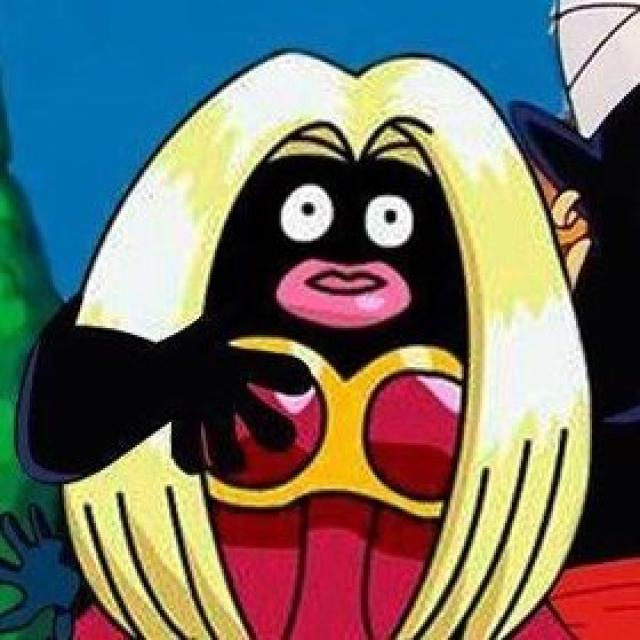Jynx: (59, 49, 561, 640)
